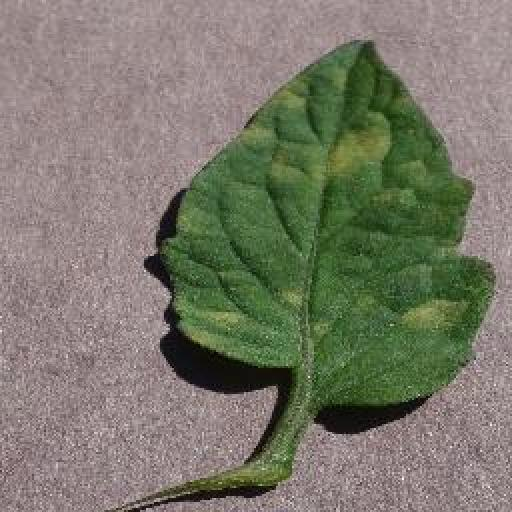disease_tomato: (159, 37, 496, 407)
